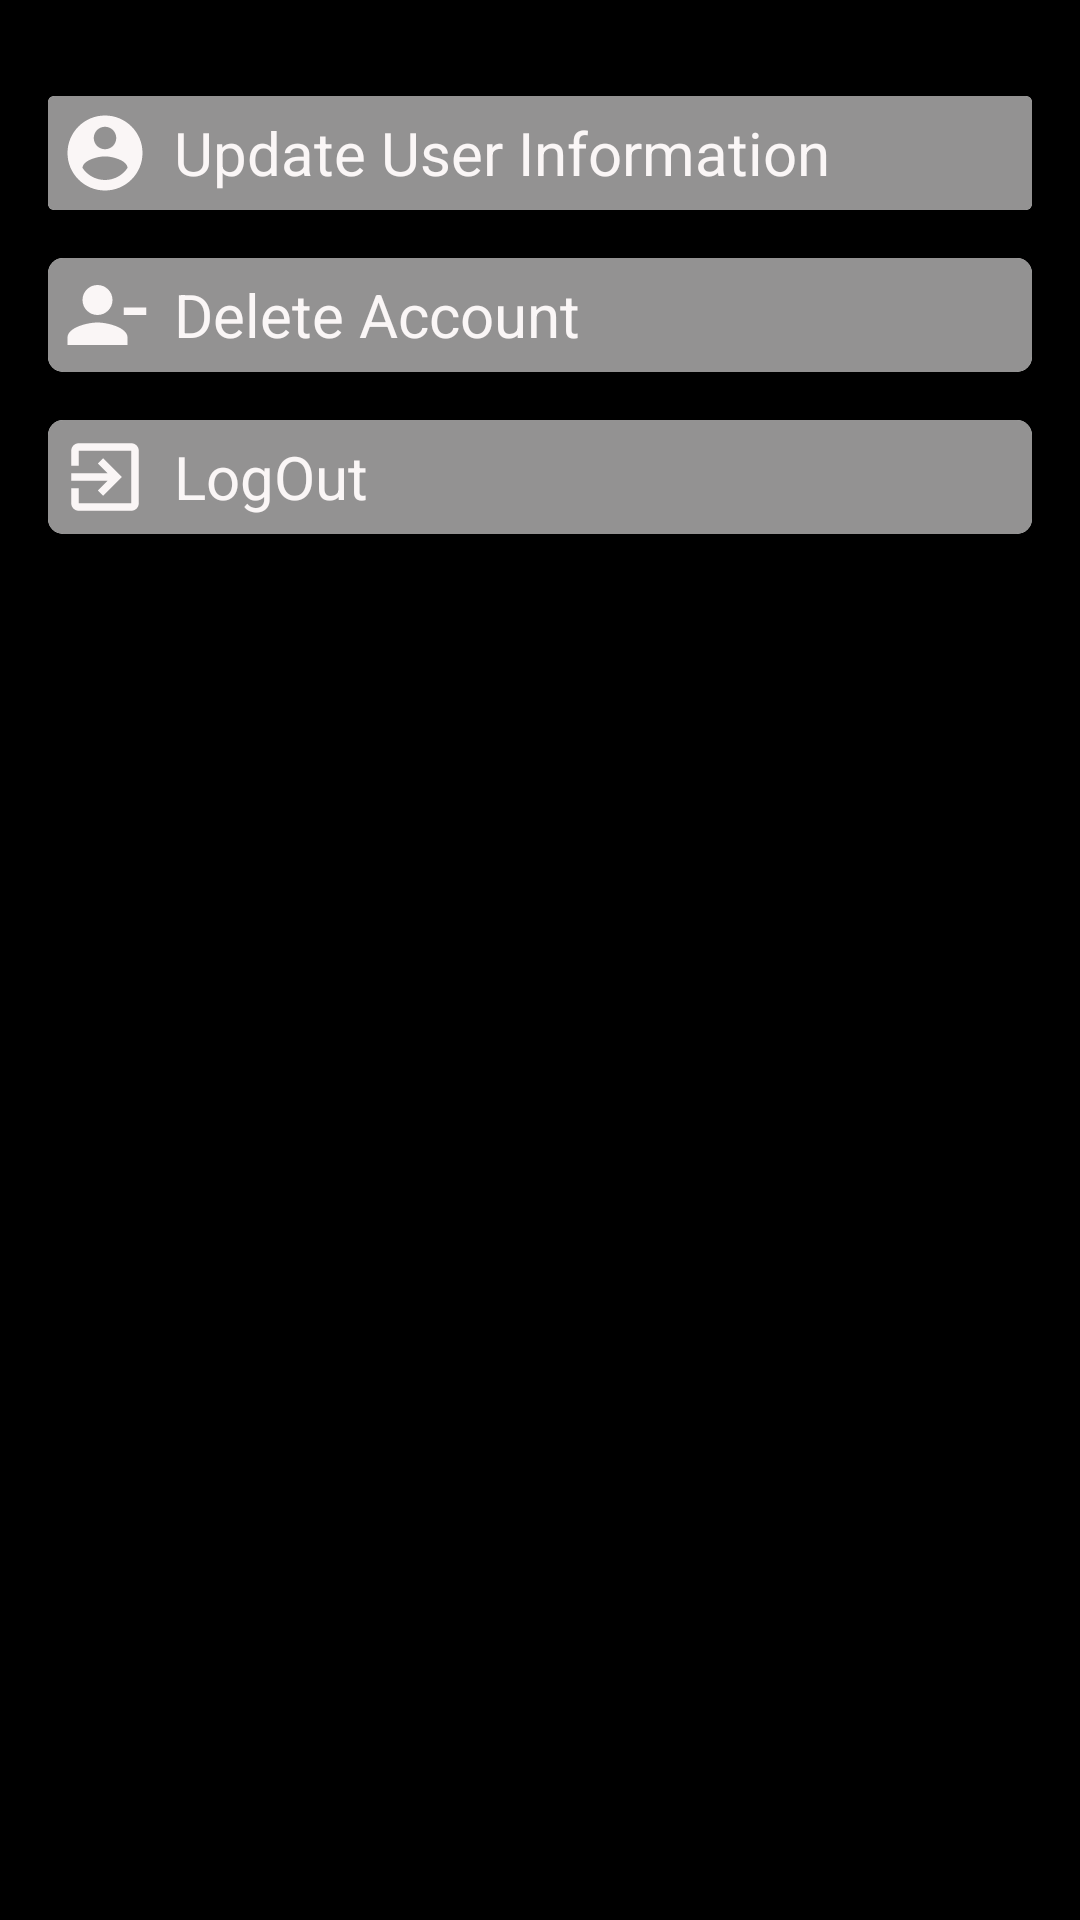

Icon click points for this 1080w x 1920h phone screenshot, format (x=x, y=y):
exit: (x=105, y=477)
remove: (x=107, y=315)
